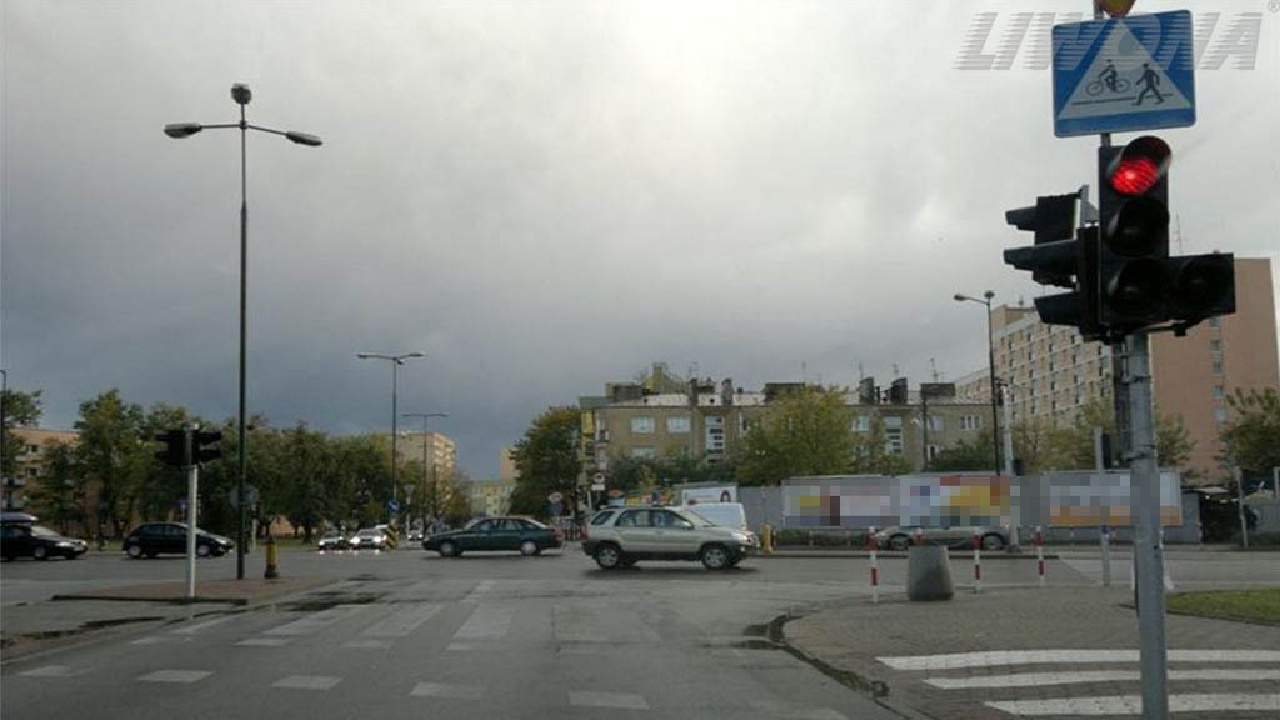D6b: (1048, 11, 1197, 138)
Red: (1105, 143, 1170, 331)
